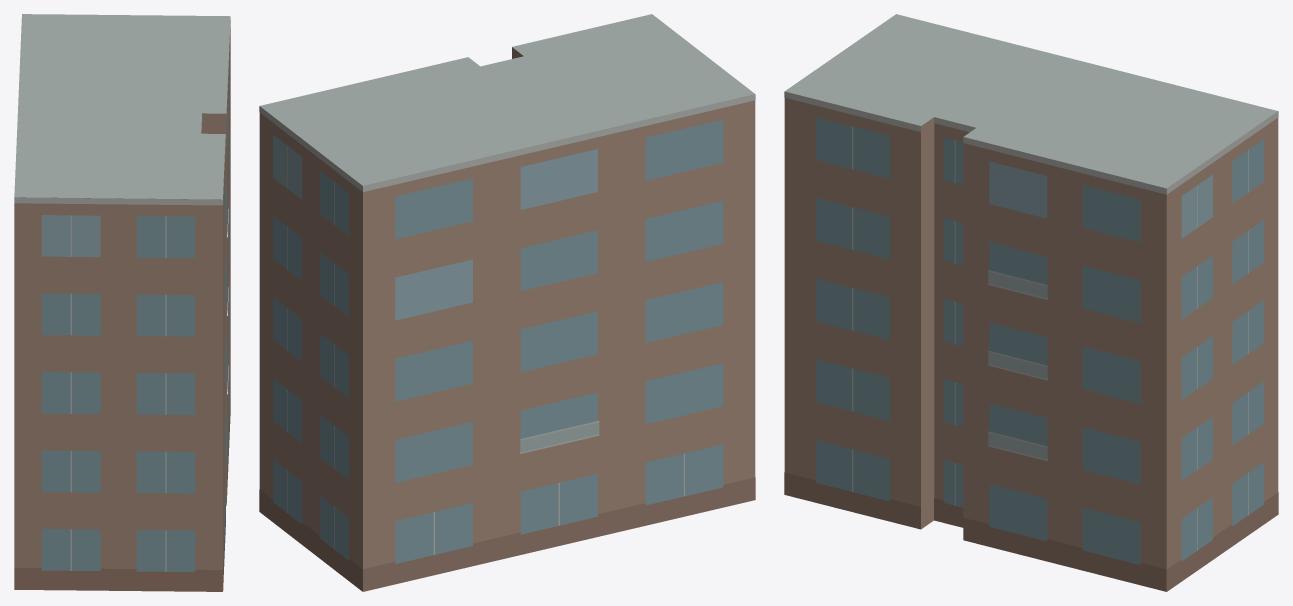
The model's file is survey-upis-32673930.glb.
3 views of the same model, side by side, from view 1: azimuth 30°, elevation 25°; view 2: azimuth 150°, elevation 25°; view 3: azimuth 270°, elevation 25° (orthographic). The views are drawn at different scales.
Parts seen in each view (by area): view 1: survey-upis-32673930.tmp; view 2: survey-upis-32673930.tmp; view 3: survey-upis-32673930.tmp.
Boxes of the visible parts, bbox=[...] form: survey-upis-32673930.tmp: bbox=[14, 14, 230, 591]; survey-upis-32673930.tmp: bbox=[259, 14, 755, 591]; survey-upis-32673930.tmp: bbox=[784, 14, 1278, 591].
Size of the model in its own units: 14.86 by 16 by 17.77.
